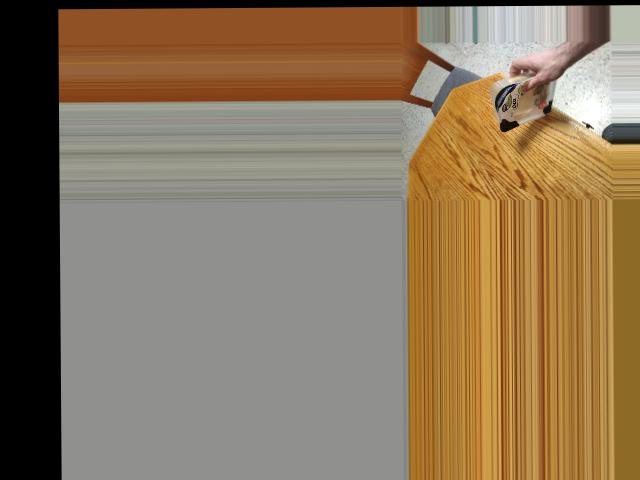cheese: (493, 76, 564, 127)
